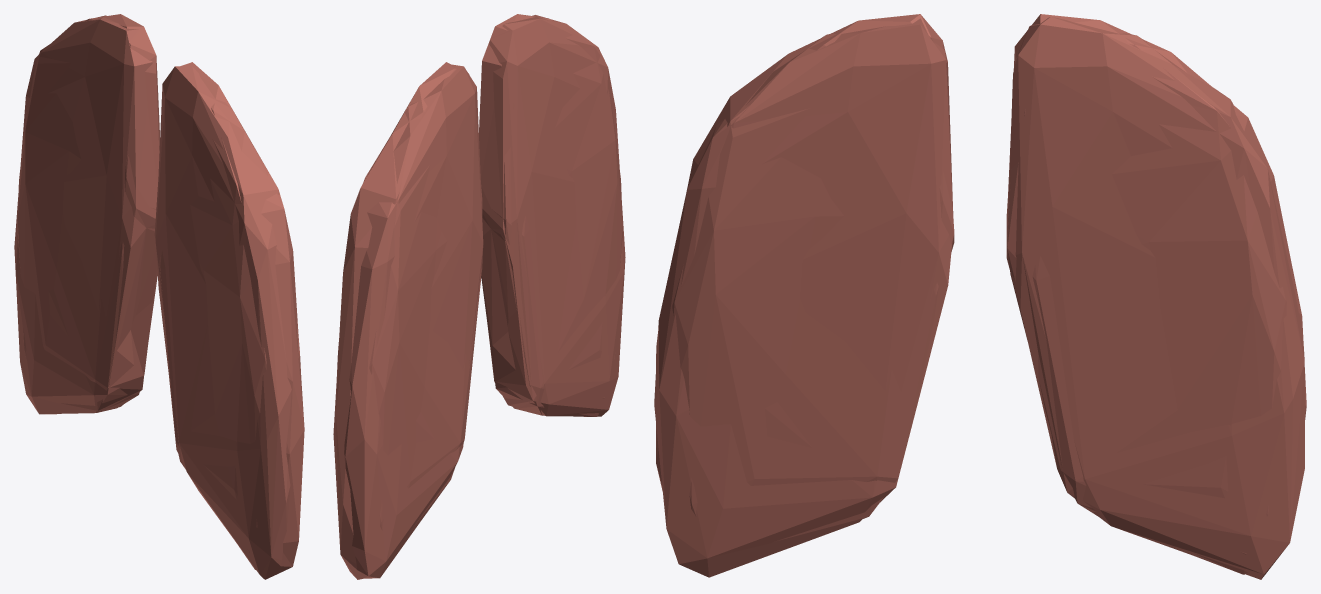
File: poumon.fbx
3 renders of one model, left to right at view 1: azimuth 30°, elevation 25°; view 2: azimuth 150°, elevation 25°; view 3: azimuth 270°, elevation 25°, orthographic. The views are drawn at different scales.
Visible parts, largest first — view 1: Cube; view 2: Cube; view 3: Cube.
Boxes of the visible parts, x1=… form: Cube: x1=14, y1=14, x2=304, y2=579; Cube: x1=333, y1=14, x2=625, y2=579; Cube: x1=654, y1=14, x2=1306, y2=579.
Bounding box in the file's own units: 60.82 × 477 × 508.
